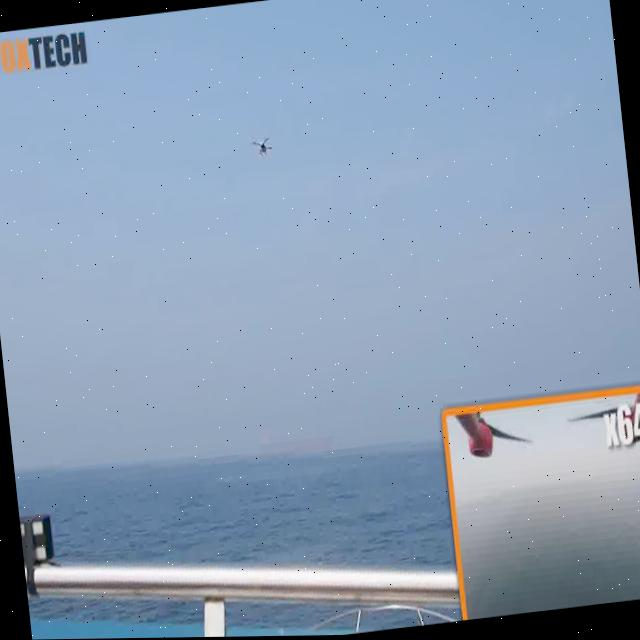drone: (221, 102, 303, 187)
